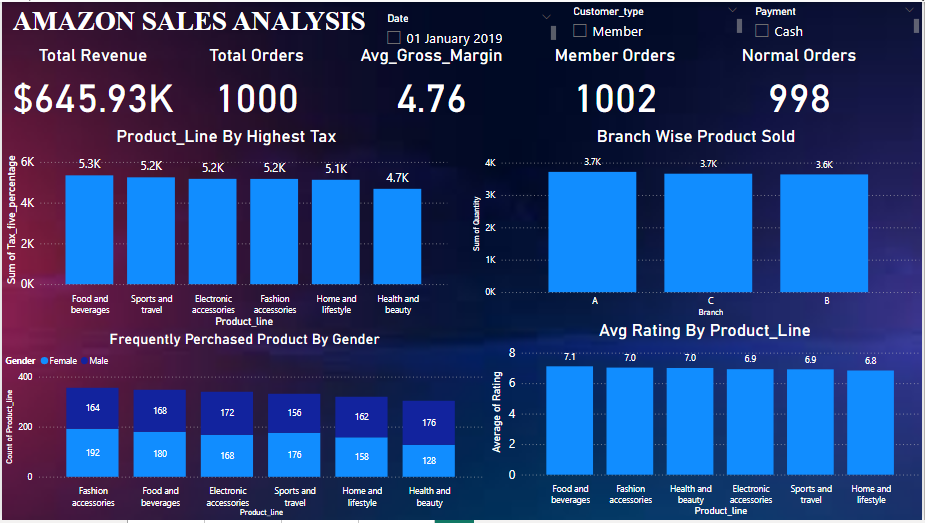

The page's visual inventory and layout, read from the dashboard file:
{"tool":"powerbi","page":{"name":"Page 2","canvas":[1280,720],"ordinal":1},"visuals":[{"type":"textbox","box":[10.2,0,562.1,59.3],"z":0},{"type":"card","title":"Total Revenue","fields":{"Values":["Sum(sql_capstone_project project.Total)"]},"box":[0,59.8,253,112.6],"z":1000},{"type":"slicer","fields":{"Values":["sql_capstone_project project.Payment"]},"box":[1034.1,0,246,69.5],"z":2000},{"type":"card","title":"Total Orders","fields":{"Values":["Count(sql_capstone_project project.Invoice_ID)"]},"box":[253,59.8,201.5,112.6],"z":3000},{"type":"card","title":"Avg_Gross_Margin","fields":{"Values":["Avg(sql_capstone_project project.gross_margin_percentage)"]},"box":[467,59.8,259.9,112.6],"z":4000},{"type":"card","title":"Member Orders","fields":{"Values":["sql_capstone_project project.Member Orders"]},"box":[736.7,59.8,230.7,112.6],"z":5000},{"type":"card","title":"Normal Orders","fields":{"Values":["sql_capstone_project project.Normal Orders"]},"box":[992.4,59.8,230.7,112.6],"z":6000},{"type":"columnChart","title":"Product_Line By Highest Tax ","fields":{"Category":["sql_capstone_project project.Product_line"],"Y":["Sum(sql_capstone_project project.Tax_five_percentage)"]},"box":[0,172.4,624.1,283.6],"z":7000},{"type":"columnChart","title":"Branch Wise Product Sold","fields":{"Category":["sql_capstone_project project.Branch"],"Y":["Sum(sql_capstone_project project.Quantity)"]},"box":[649.1,172.4,631,269.7],"z":8000},{"type":"columnChart","title":"Frequently Perchased Product By Gender","fields":{"Series":["sql_capstone_project project.Gender"],"Category":["sql_capstone_project project.Product_line"],"Y":["CountNonNull(sql_capstone_project project.Product_line)"]},"box":[0,455.9,674.1,264.1],"z":9000},{"type":"columnChart","title":"Avg Rating By Product_Line","fields":{"Y":["Avg(sql_capstone_project project.Rating)"],"Category":["sql_capstone_project project.Product_line"]},"box":[674.1,442,606,278],"z":10000},{"type":"slicer","fields":{"Values":["sql_capstone_project project.Customer_type"]},"box":[781.2,0,253,59.8],"z":11000},{"type":"slicer","fields":{"Values":["sql_capstone_project project.Date"]},"box":[522.9,10,253,59.8],"z":12000}]}

Visuals, with their boxes in screenshot pixels (x1, y1, x2, y2), scaled from the page's 1280x720 canvas onto the 925x523 screenshot:
textbox: (7,0,414,43)
"Total Revenue" card: (0,43,183,125)
slicer - sql_capstone_project project.Payment: (747,0,924,50)
"Total Orders" card: (183,43,328,125)
"Avg_Gross_Margin" card: (337,43,525,125)
"Member Orders" card: (532,43,699,125)
"Normal Orders" card: (717,43,884,125)
"Product_Line By Highest Tax " columnChart: (0,125,451,331)
"Branch Wise Product Sold" columnChart: (469,125,924,321)
"Frequently Perchased Product By Gender" columnChart: (0,331,487,522)
"Avg Rating By Product_Line" columnChart: (487,321,924,522)
slicer - sql_capstone_project project.Customer_type: (565,0,747,43)
slicer - sql_capstone_project project.Date: (378,7,561,51)
